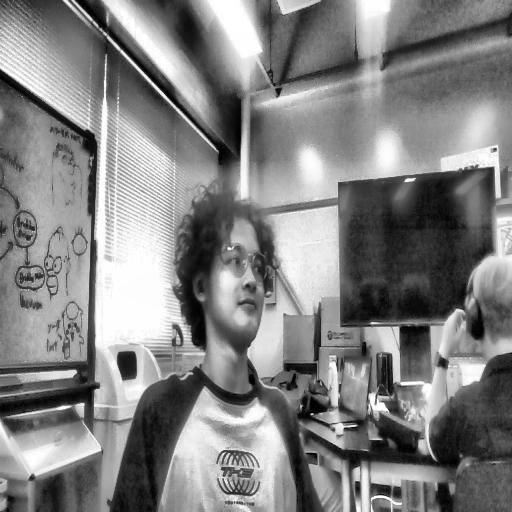Daifuku: (172, 185, 277, 346)
Not Daifuku: (467, 267, 512, 360)
